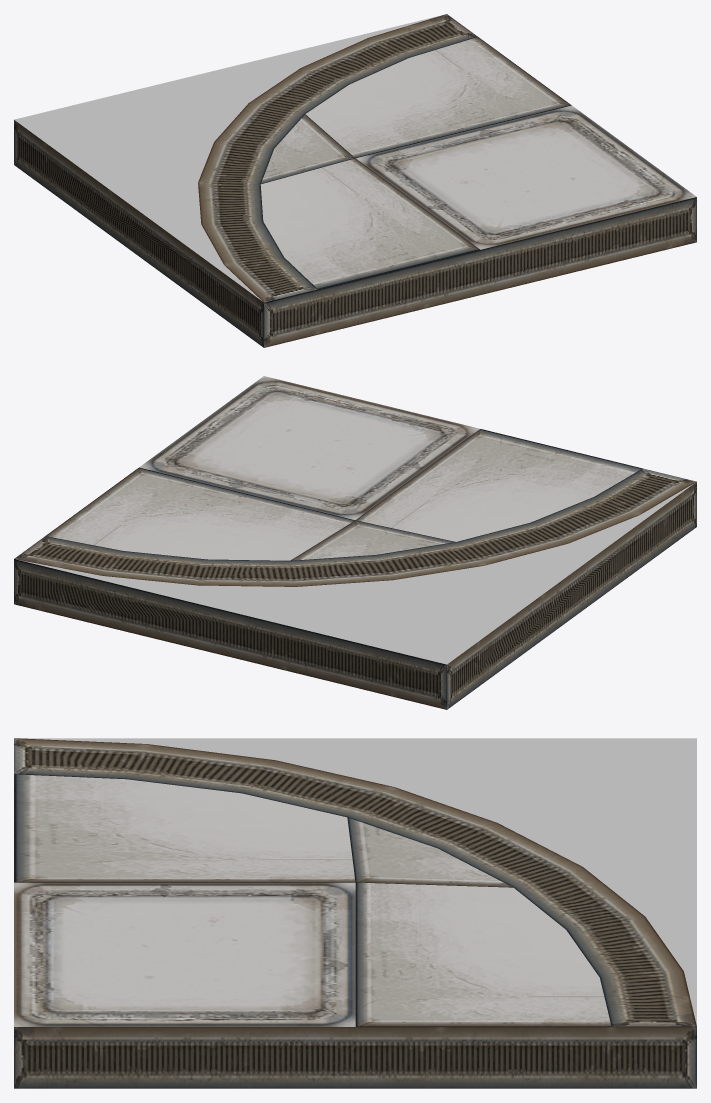
File: scifi_floor_mosaic_8.FBX
3 renders of one model, top to bottom at view 1: azimuth 30°, elevation 25°; view 2: azimuth 150°, elevation 25°; view 3: azimuth 270°, elevation 25°, orthographic. The views are drawn at different scales.
Visible parts, largest first — view 1: Plane135; view 2: Plane135; view 3: Plane135.
Boxes of the visible parts, bbox=[...] form: Plane135: bbox=[14, 14, 696, 347]; Plane135: bbox=[14, 376, 696, 709]; Plane135: bbox=[14, 738, 696, 1088].
Size of the model in its own units: 254 by 25.4 by 254.
